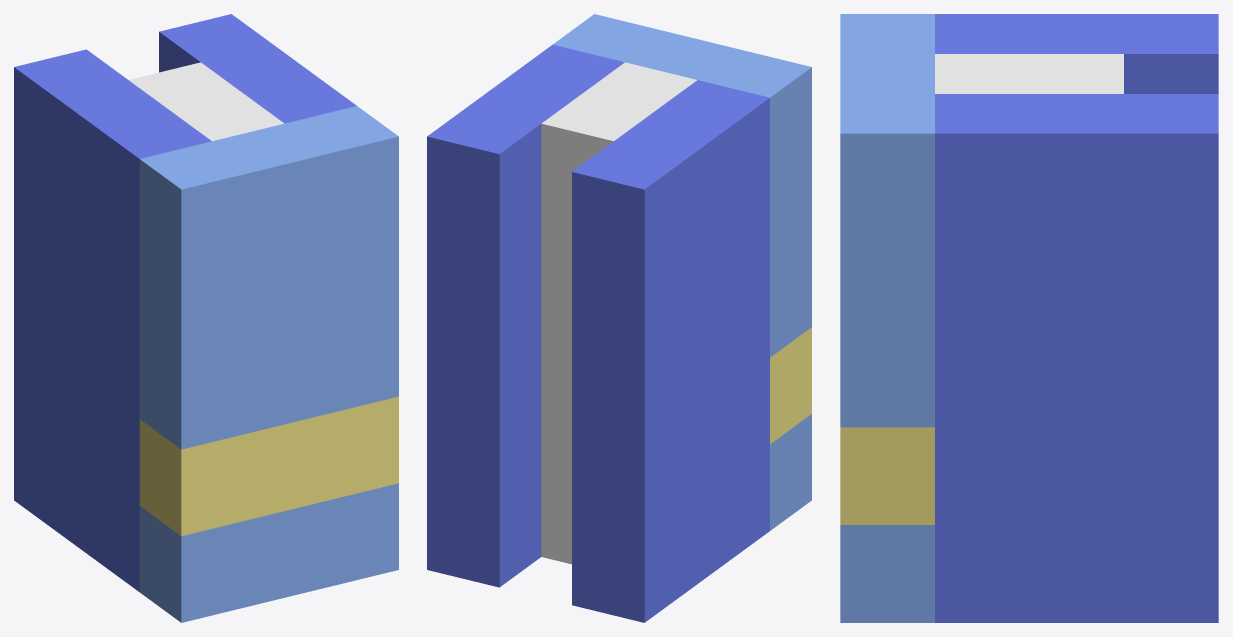
File: book_blue.obj
3 views of the same model, side by side, from view 1: azimuth 30°, elevation 25°; view 2: azimuth 150°, elevation 25°; view 3: azimuth 270°, elevation 25° (orthographic). The views are drawn at different scales.
Visible parts, largest first — view 1: book_blue; view 2: book_blue; view 3: book_blue.
Boxes of the visible parts, x1,y1,x2,y2 form: book_blue: [14, 14, 398, 622]; book_blue: [427, 14, 811, 622]; book_blue: [840, 14, 1218, 622].
Size of the model in its own units: 3.52 by 6.71 by 4.7.
